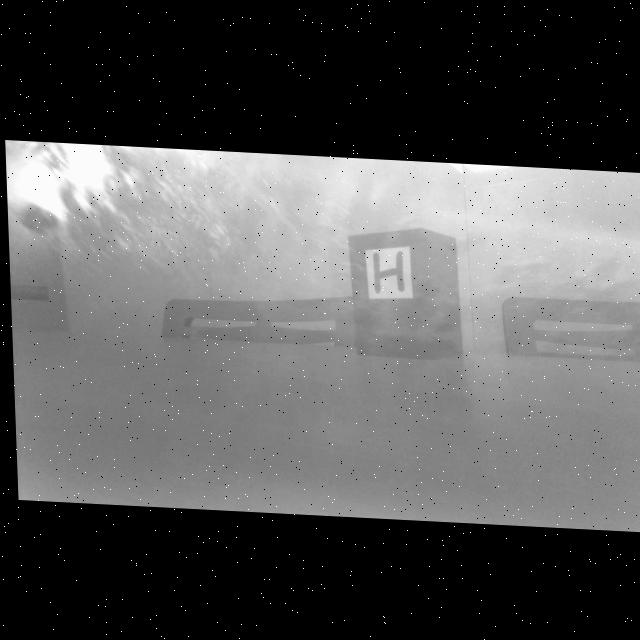H: (372, 247, 403, 288)
